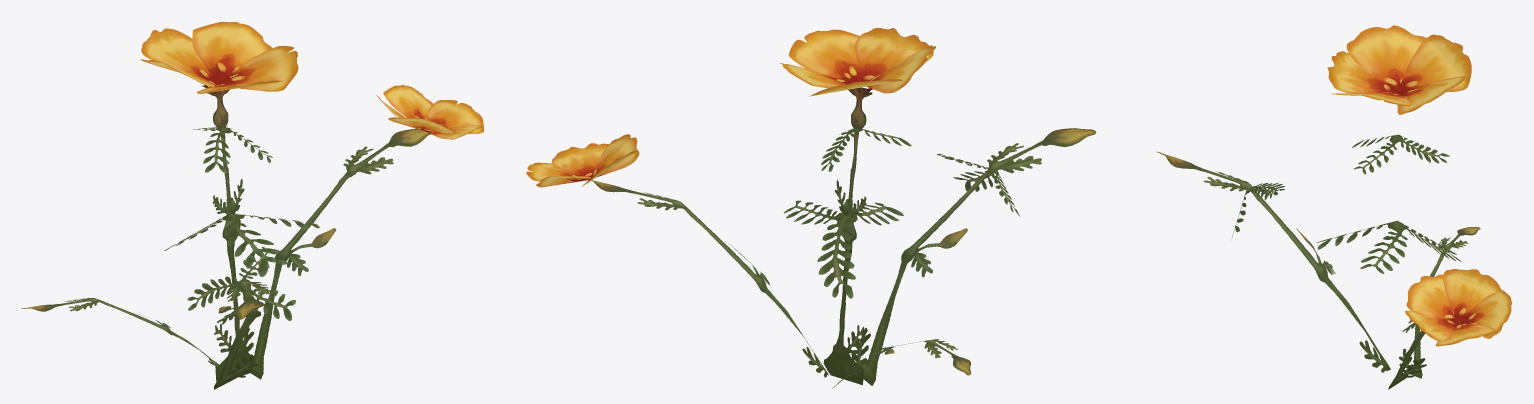
File: plant-9.glb
The picture shows the model from 3 angles, left to right: view 1: azimuth 30°, elevation 25°; view 2: azimuth 150°, elevation 25°; view 3: azimuth 270°, elevation 25°; orthographic projection. The views are drawn at different scales.
Parts seen in each view (by area): view 1: poppy.flower.001_Material.001_0; view 2: poppy.flower.001_Material.001_0; view 3: poppy.flower.001_Material.001_0.
Boxes of the visible parts, x1,y1,x2,y2 form: poppy.flower.001_Material.001_0: [21, 21, 484, 389]; poppy.flower.001_Material.001_0: [526, 27, 1096, 388]; poppy.flower.001_Material.001_0: [1157, 25, 1512, 389].
Size of the model in its own units: 0.3059 by 0.22 by 0.2338.
1 material, 1 textured.
